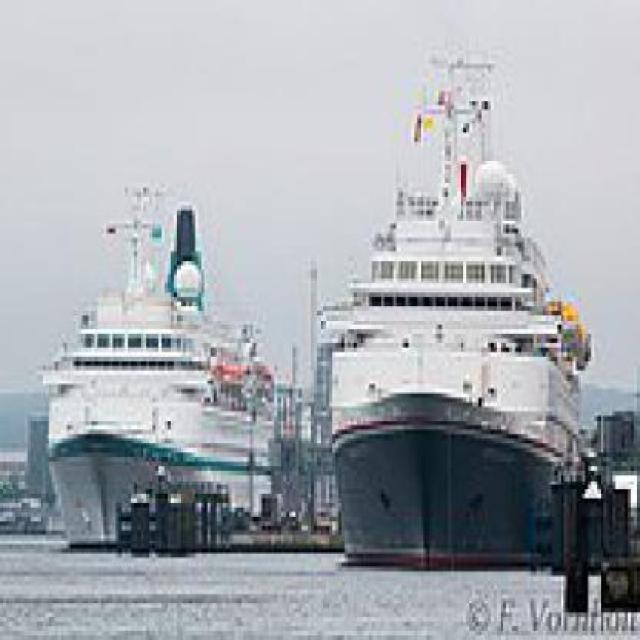cruise: (321, 33, 604, 591), (28, 161, 282, 559)
